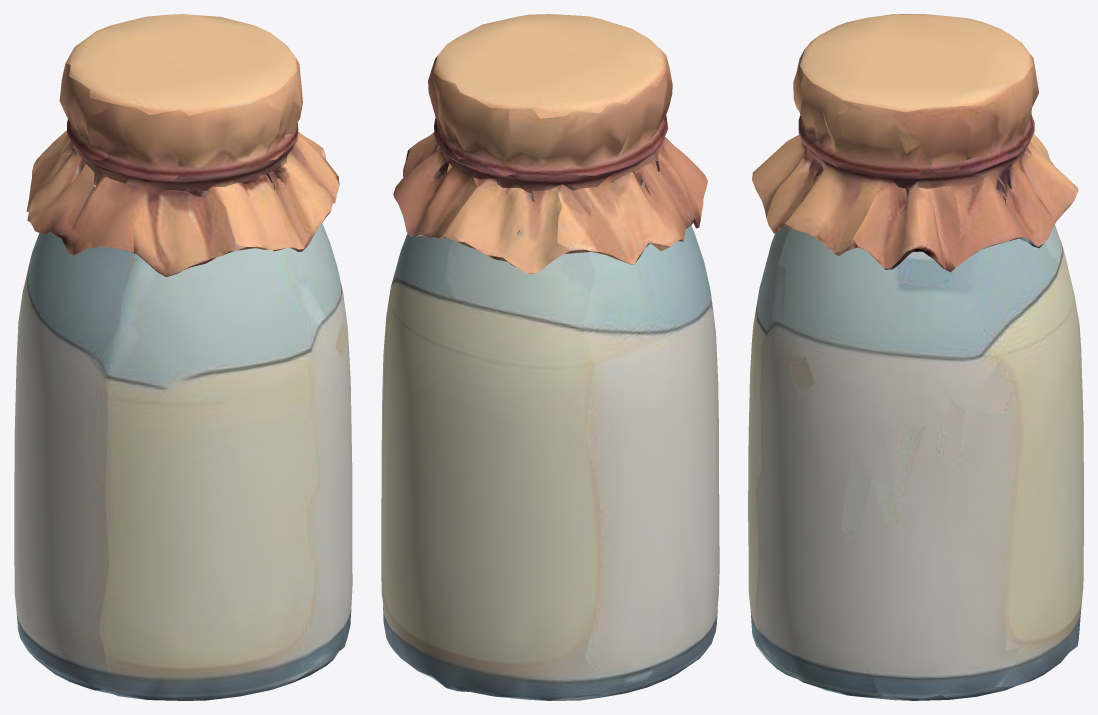
File: milk_s.glb
3 views of the same model, side by side, from view 1: azimuth 30°, elevation 25°; view 2: azimuth 150°, elevation 25°; view 3: azimuth 270°, elevation 25° (orthographic).
Visible parts, largest first — view 1: item_milk_s; view 2: item_milk_s; view 3: item_milk_s.
Part boxes in pixels (box(x1,y1,x2,y2)): item_milk_s: box(14, 14, 352, 700); item_milk_s: box(381, 14, 719, 700); item_milk_s: box(748, 14, 1083, 700).
Size of the model in its own units: 0.5321 by 1 by 0.5281.
1 material, 1 textured.
